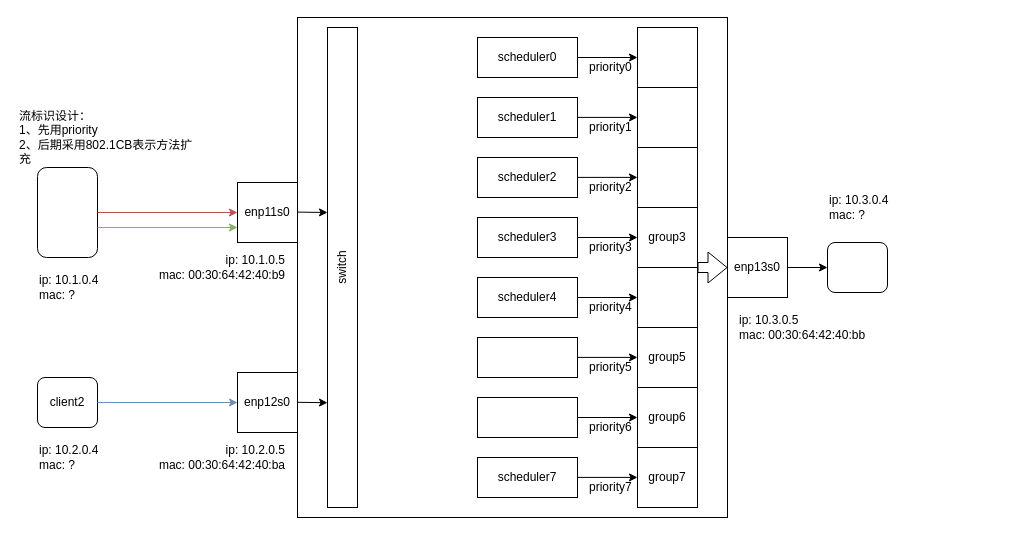
Image size: 1024x545. Some labels were removed from this diagram. The centre of each missing label's shape, as x and y in pixels:
"client1" goes at point (67, 212).
"group0" goes at point (667, 57).
"group1" goes at point (667, 117).
"group2" goes at point (667, 177).
"group4" goes at point (667, 297).
"scheduler5" goes at point (527, 357).
"scheduler6" goes at point (527, 417).
"server" goes at point (857, 267).
